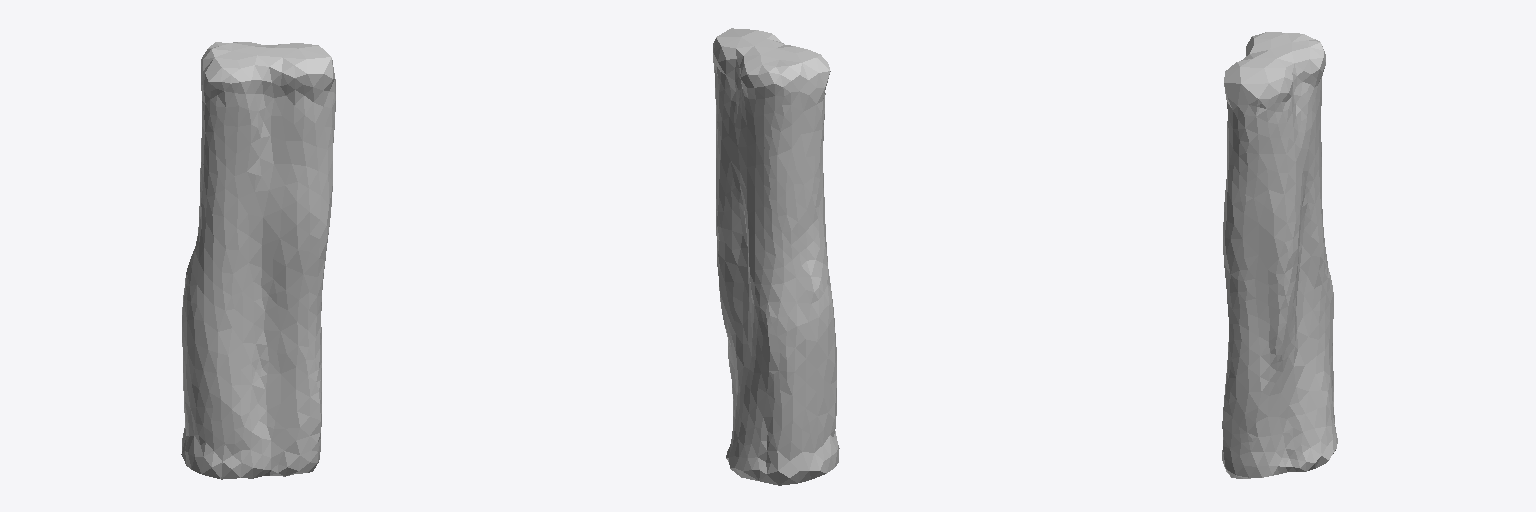
File: RockPillars_5.obj
3 renders of one model, left to right at view 1: azimuth 30°, elevation 25°; view 2: azimuth 150°, elevation 25°; view 3: azimuth 270°, elevation 25°, orthographic.
Visible parts, largest first — view 1: RockPillar05; view 2: RockPillar05; view 3: RockPillar05.
Part boxes in pixels (x1,y1,x2,y2): RockPillar05: (181, 42, 335, 479); RockPillar05: (713, 28, 839, 485); RockPillar05: (1222, 32, 1337, 478).
Size of the model in its own units: 13.97 by 42 by 10.68.